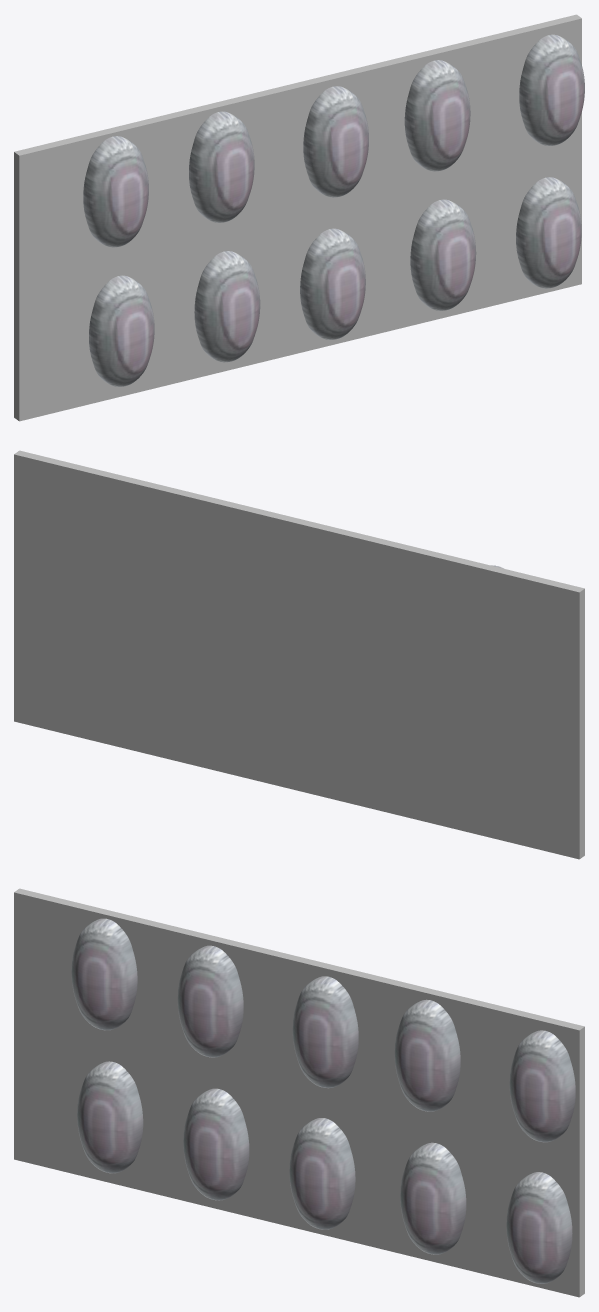
Rendered from 20150727GOPHDRGPT42700.fbx.
3 views of the same model, one above another, from view 1: azimuth 30°, elevation 25°; view 2: azimuth 150°, elevation 25°; view 3: azimuth 330°, elevation 25° (orthographic).
Visible parts, largest first — view 1: Cube, Sphere.004, Sphere.008, Sphere.006, Sphere.005, Sphere.002, Sphere.009, Sphere.000, Sphere.007, Sphere.001, Sphere.003; view 2: Cube; view 3: Cube, Sphere.008, Sphere.005, Sphere.004, Sphere.003, Sphere.001, Sphere.007, Sphere.002, Sphere.009, Sphere.006, Sphere.000.
Boxes of the visible parts, box(x1,y1,x2,y2) form: Cube: box(14, 14, 581, 421); Sphere.004: box(194, 251, 260, 362); Sphere.008: box(83, 136, 148, 247); Sphere.006: box(303, 86, 368, 197); Sphere.005: box(189, 111, 254, 222); Sphere.002: box(404, 60, 470, 171); Sphere.009: box(89, 275, 154, 386); Sphere.000: box(516, 177, 581, 288); Sphere.007: box(300, 228, 365, 339); Sphere.001: box(519, 34, 584, 145); Sphere.003: box(410, 199, 476, 310); Cube: box(14, 450, 584, 859); Cube: box(14, 888, 584, 1297); Sphere.008: box(71, 918, 137, 1030); Sphere.005: box(177, 945, 243, 1057); Sphere.004: box(183, 1088, 249, 1200); Sphere.003: box(400, 1142, 466, 1254); Sphere.001: box(509, 1030, 575, 1142); Sphere.007: box(289, 1118, 355, 1229); Sphere.002: box(394, 999, 460, 1111); Sphere.009: box(77, 1061, 143, 1173); Sphere.006: box(292, 976, 358, 1088); Sphere.000: box(506, 1172, 572, 1283).
Size of the model in its own units: 105 by 47.25 by 6.99.
